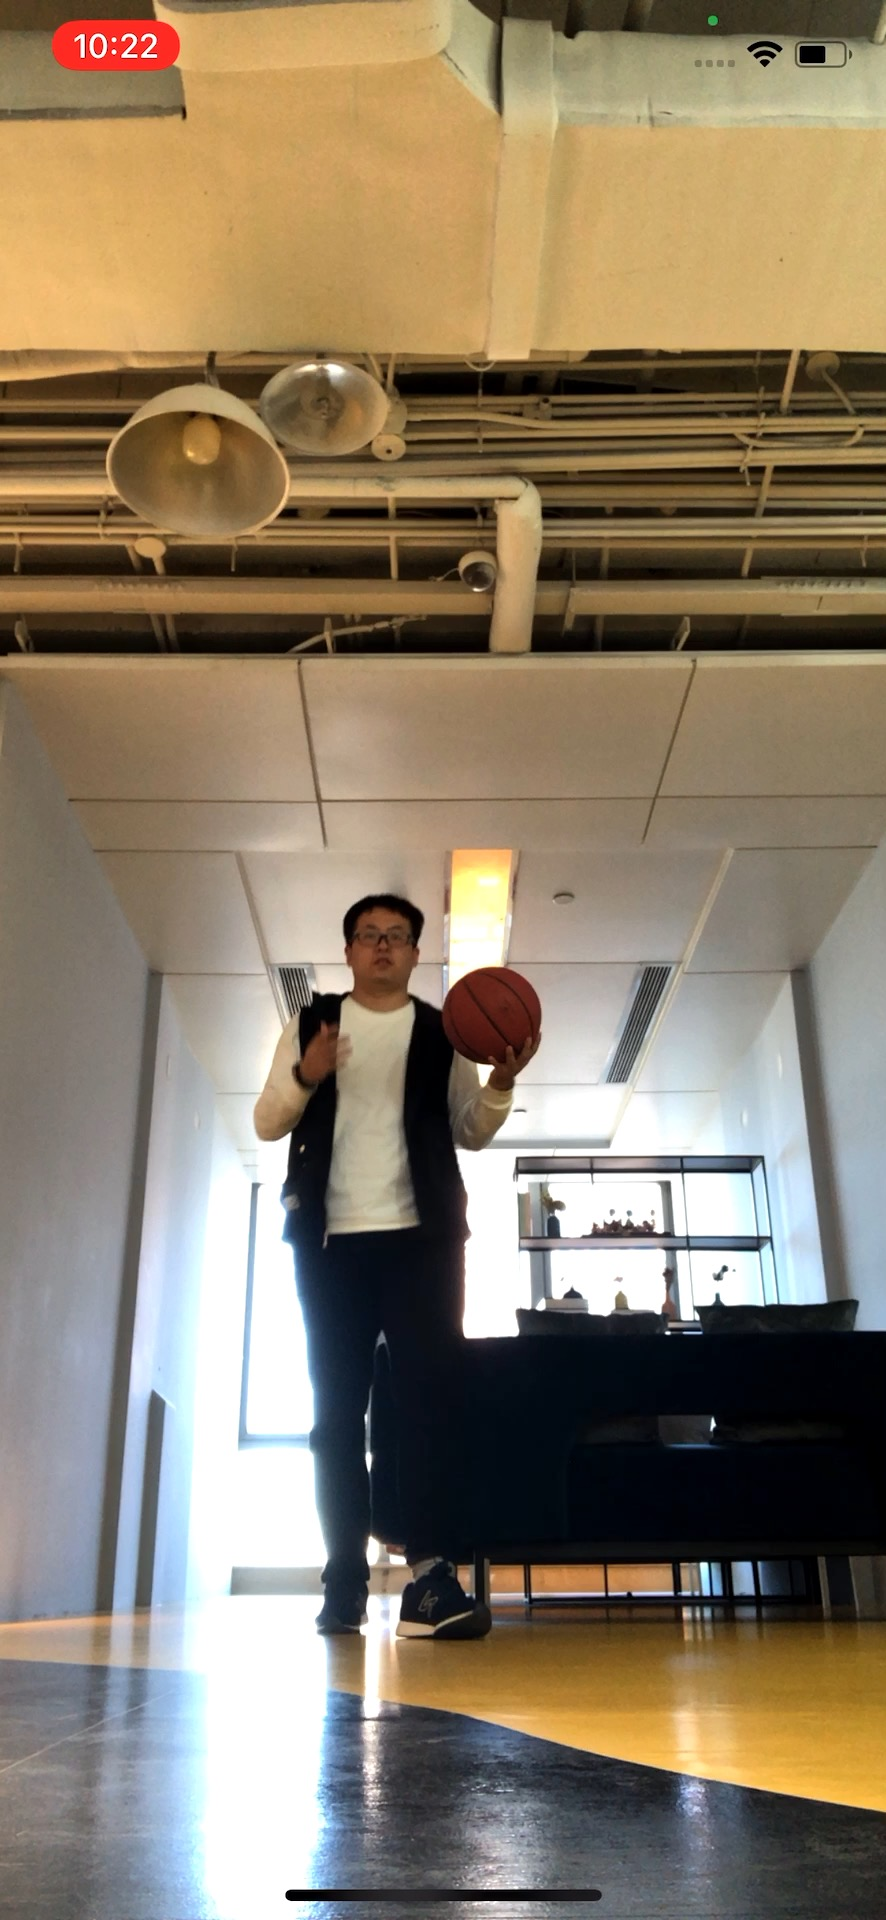ball: (439, 969, 541, 1065)
